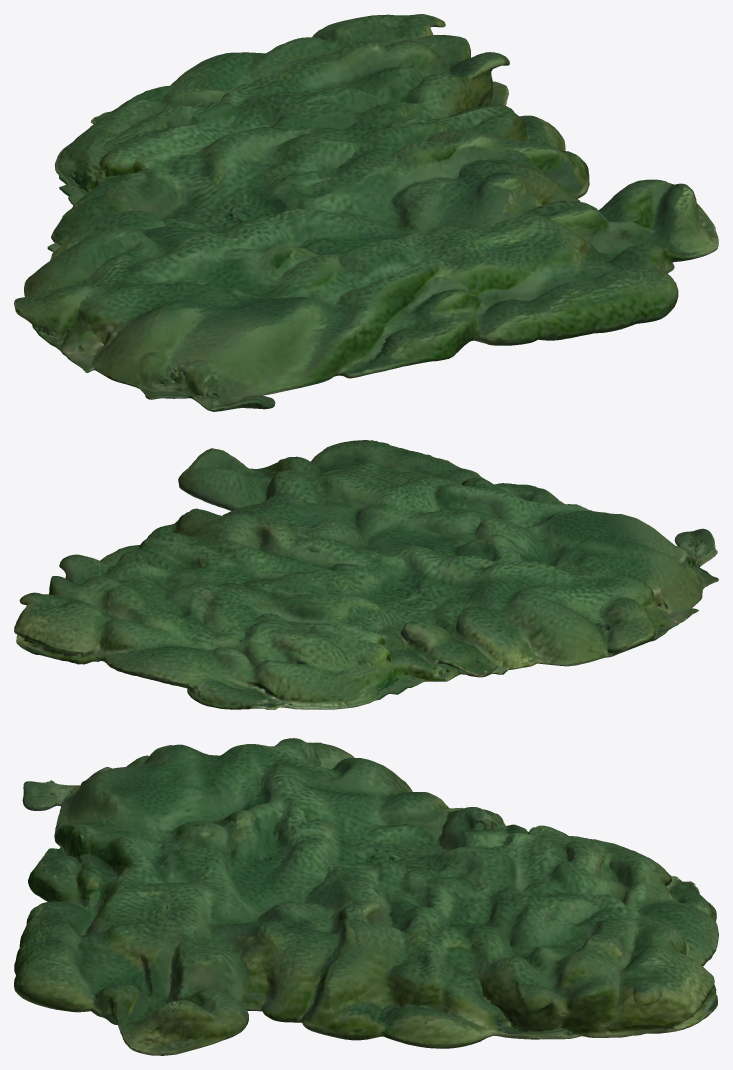
The model's file is moss-bank-v3.glb.
The picture shows the model from 3 angles, top to bottom: view 1: azimuth 30°, elevation 25°; view 2: azimuth 150°, elevation 25°; view 3: azimuth 270°, elevation 25°; orthographic projection. The views are drawn at different scales.
Visible parts, largest first — view 1: geometry_0; view 2: geometry_0; view 3: geometry_0.
Part boxes in pixels (box(x1,y1,x2,y2)): geometry_0: box(14, 14, 718, 411); geometry_0: box(14, 440, 718, 709); geometry_0: box(14, 738, 718, 1055).
Size of the model in its own units: 0.3 by 0.0303 by 0.2995.
1 material, 1 textured.
